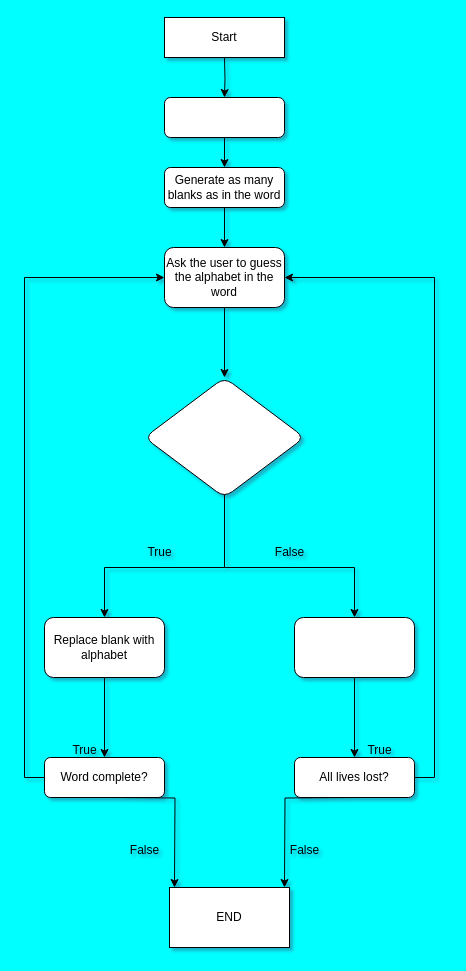
The diagram is 466 pixels wide and 971 high, and some of its shapes have lost their labels. Here are the shapes that lost their labels. From the top down, the centre of each, then its label:
At [224,117]: "Generate a random word".
At [224,437]: "Is the guess letter in the word?".
At [354,647]: "Lose a life".
